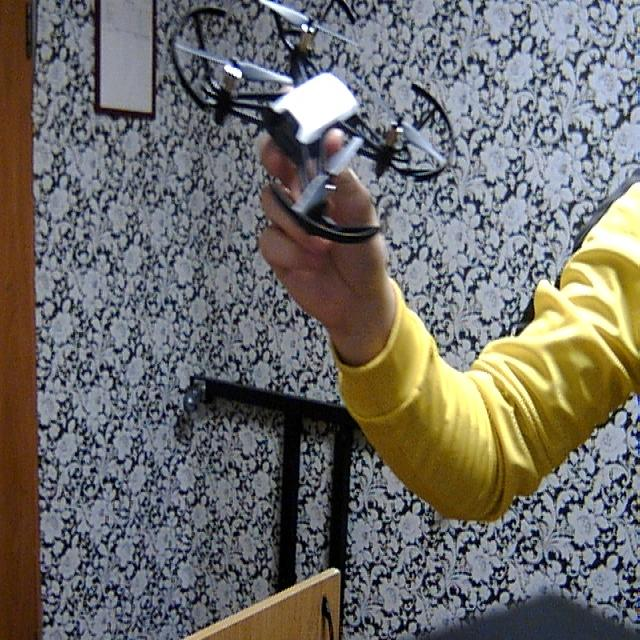drone: (156, 0, 463, 264)
